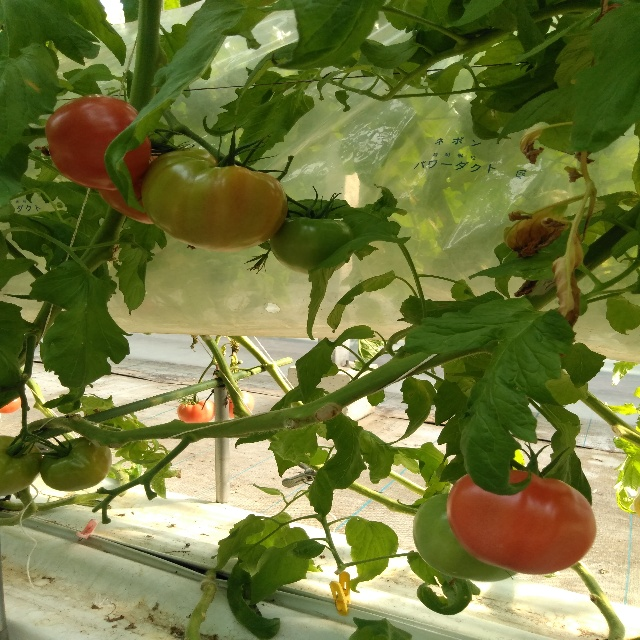b_fully_ripened: (445, 470, 597, 575), (47, 93, 152, 190), (177, 400, 215, 423)
b_green: (412, 492, 521, 582), (270, 217, 355, 276), (39, 437, 113, 492), (0, 435, 43, 497)
b_half_ripened: (142, 148, 288, 252), (96, 178, 154, 226)
